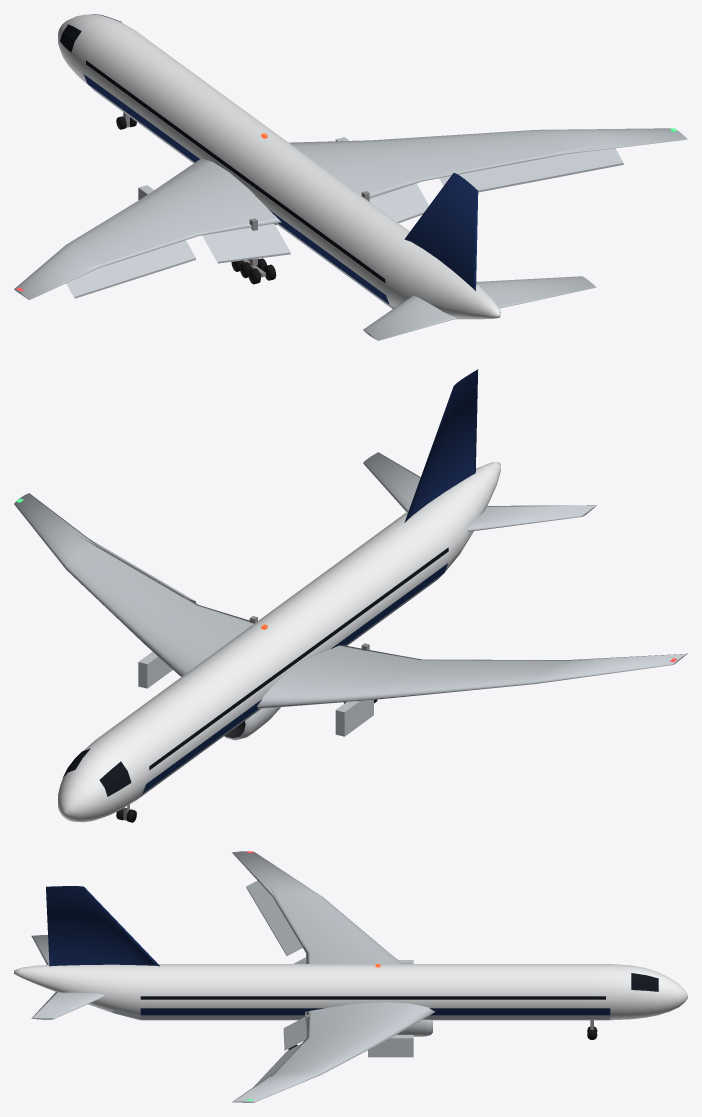
The picture shows the model from 3 angles, top to bottom: view 1: azimuth 30°, elevation 25°; view 2: azimuth 150°, elevation 25°; view 3: azimuth 270°, elevation 25°; orthographic projection. The views are drawn at different scales.
Visible parts, largest first — view 1: b77w_lod1_wing, b77w_lod1_white, b77w_lod1_blue, b77w_lod1_glass, b77w_lod1_tyre, b77w_lod1_belly; view 2: b77w_lod1_white, b77w_lod1_wing, b77w_lod1_blue, b77w_lod1_glass; view 3: b77w_lod1_white, b77w_lod1_wing, b77w_lod1_blue, b77w_lod1_glass, b77w_lod1_belly, b77w_lod1_nacelle.
Boxes of the visible parts, x1,y1,x2,y2 form: b77w_lod1_wing: (14, 128, 687, 340); b77w_lod1_white: (58, 14, 500, 319); b77w_lod1_blue: (84, 74, 478, 304); b77w_lod1_glass: (60, 14, 385, 282); b77w_lod1_tyre: (116, 116, 276, 284); b77w_lod1_belly: (88, 84, 395, 308); b77w_lod1_white: (58, 462, 500, 822); b77w_lod1_wing: (14, 452, 687, 736); b77w_lod1_blue: (142, 369, 478, 793); b77w_lod1_glass: (63, 547, 448, 796); b77w_lod1_white: (14, 964, 687, 1020); b77w_lod1_wing: (31, 851, 435, 1102); b77w_lod1_blue: (46, 886, 610, 1015); b77w_lod1_glass: (140, 973, 658, 999); b77w_lod1_belly: (113, 1010, 610, 1020); b77w_lod1_nacelle: (396, 1019, 432, 1036).
Bounding box in the file's own units: 64.8 × 18.23 × 73.9.
